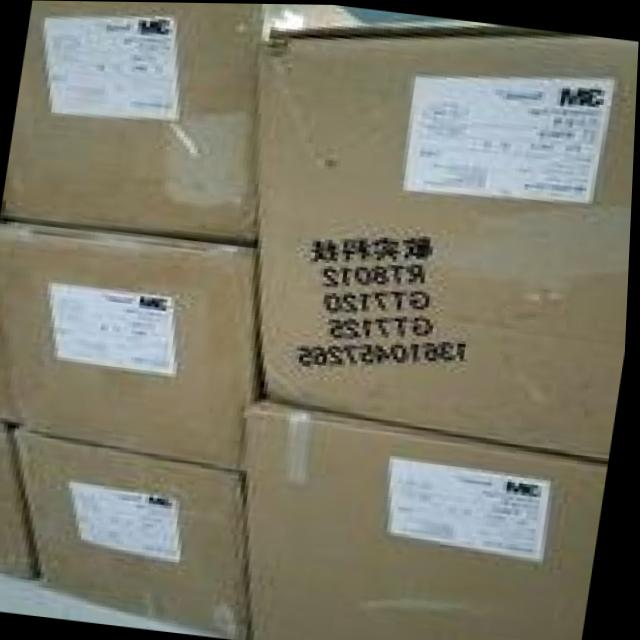box: (262, 23, 639, 462), (5, 0, 367, 246), (250, 401, 611, 640), (0, 218, 259, 471), (17, 430, 255, 636), (0, 424, 42, 583), (0, 314, 23, 427)
